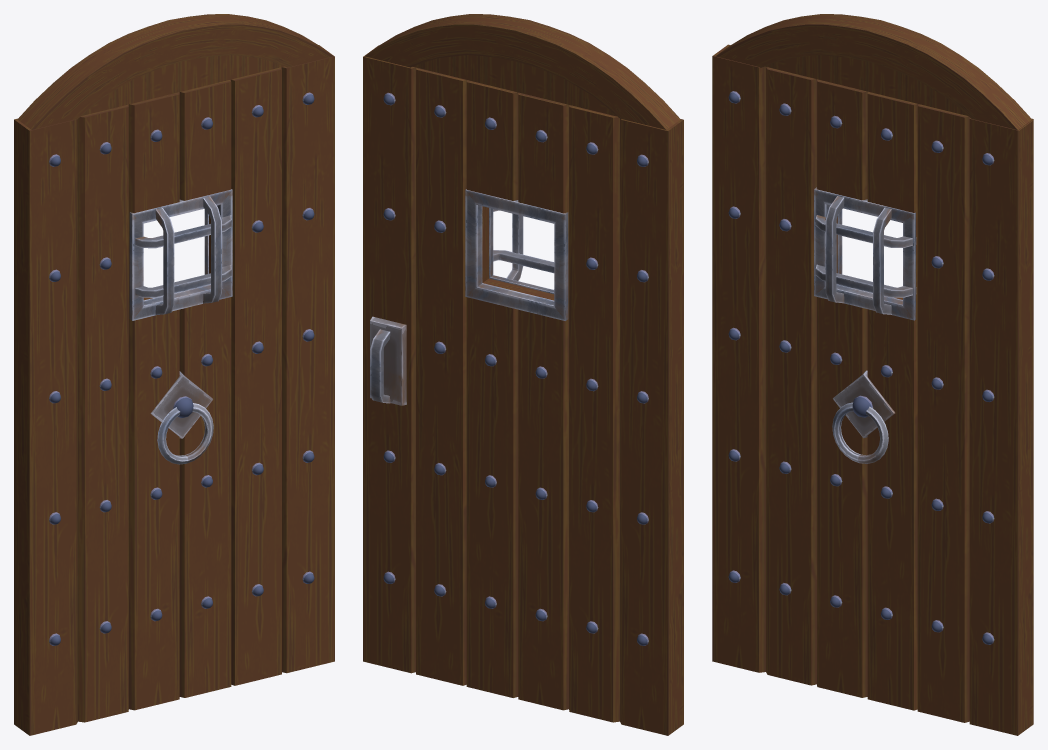
The model's file is Door_2_Round.obj.
3 views of the same model, side by side, from view 1: azimuth 30°, elevation 25°; view 2: azimuth 150°, elevation 25°; view 3: azimuth 330°, elevation 25° (orthographic).
Parts seen in each view (by area): view 1: Door_2_Round; view 2: Door_2_Round; view 3: Door_2_Round.
Part boxes in pixels (left/top/right/bottom): Door_2_Round: left=14, top=14, right=334, bottom=735; Door_2_Round: left=363, top=14, right=683, bottom=735; Door_2_Round: left=712, top=14, right=1033, bottom=735.
Bounding box in the file's own units: 1.12 × 2.33 × 0.2609.
